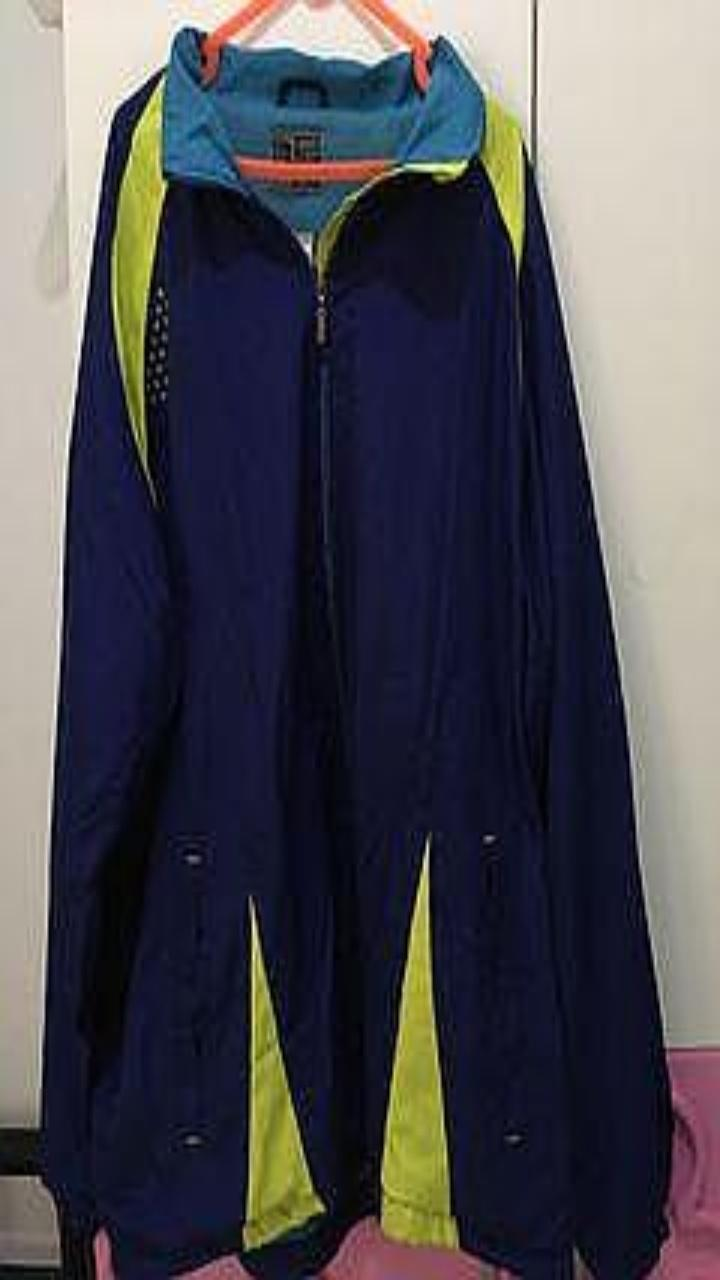Sports_Jacket: (41, 29, 670, 1279)
